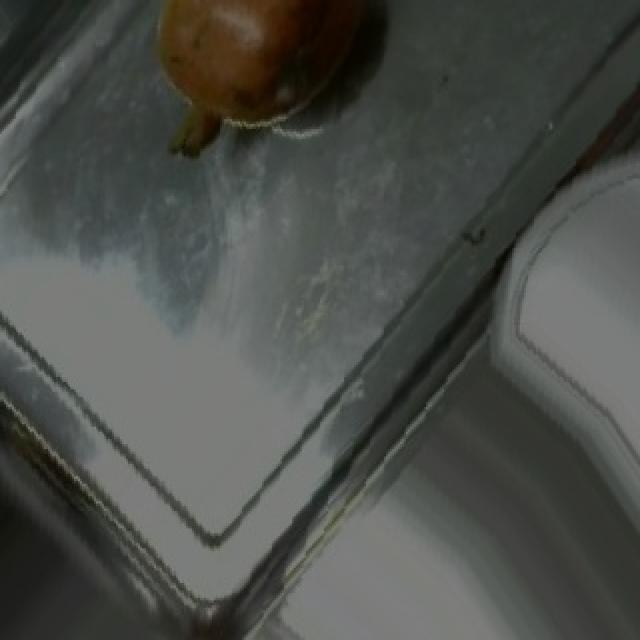fruit: (126, 0, 382, 169)
